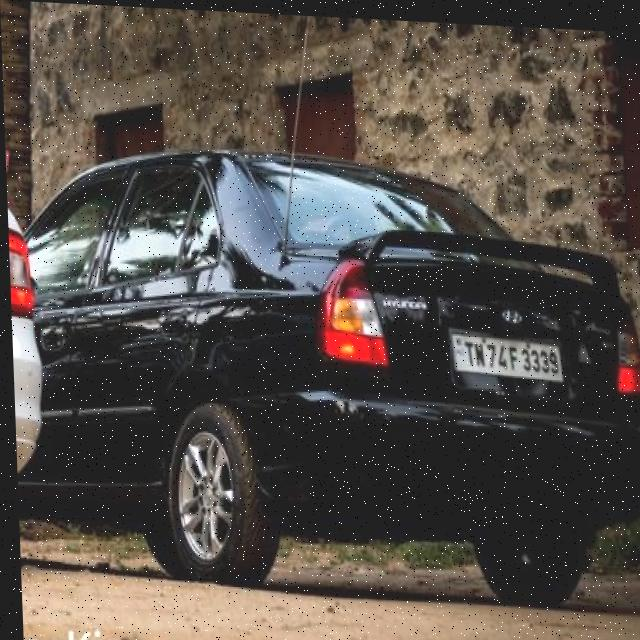plate: (444, 322, 563, 378)
